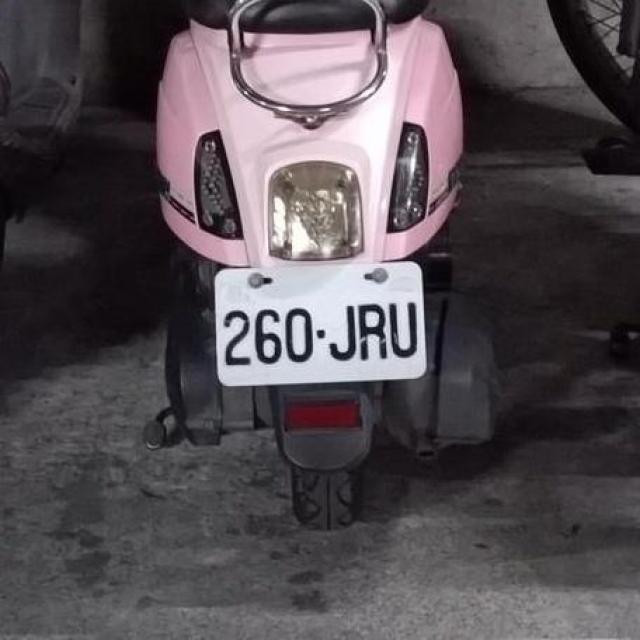W: (212, 255, 427, 388)
